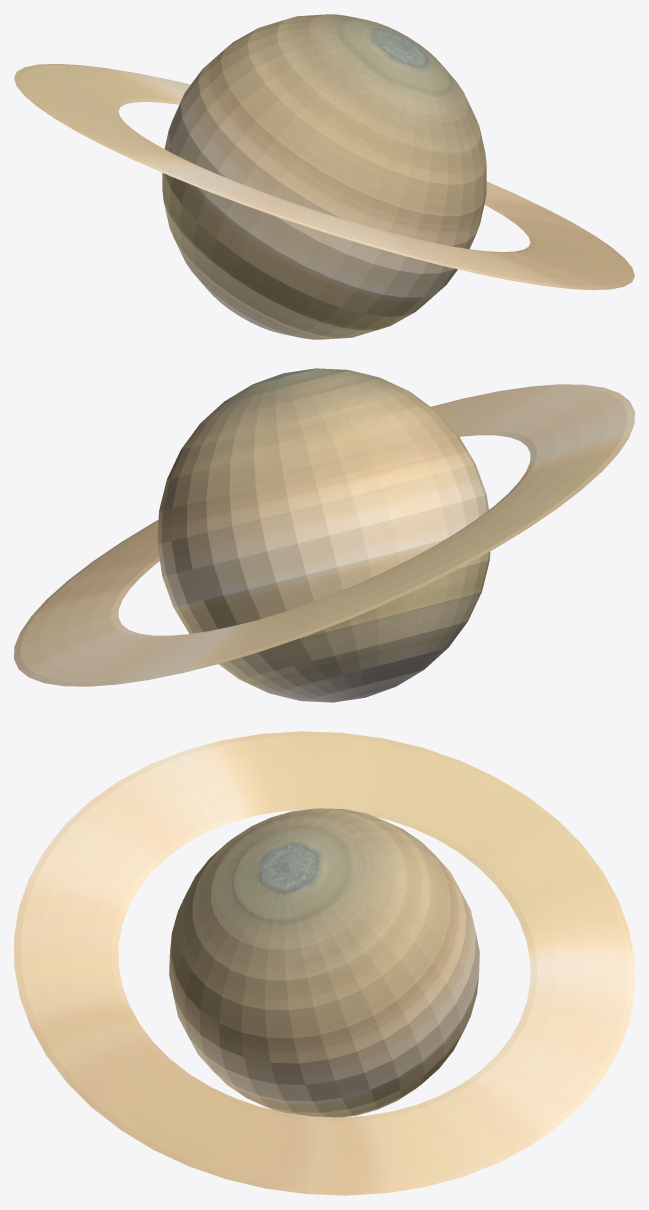
Rendered from p_saturn.fbx.
3 renders of one model, top to bottom at view 1: azimuth 30°, elevation 25°; view 2: azimuth 150°, elevation 25°; view 3: azimuth 270°, elevation 25°, orthographic. The views are drawn at different scales.
Visible parts, largest first — view 1: saturn_ring; view 2: saturn_ring; view 3: saturn_ring.
Part boxes in pixels (bbox=[...]): saturn_ring: bbox=[14, 14, 634, 339]; saturn_ring: bbox=[14, 368, 634, 702]; saturn_ring: bbox=[14, 731, 634, 1195].
Size of the model in its own units: 1748 by 945 by 1893.
